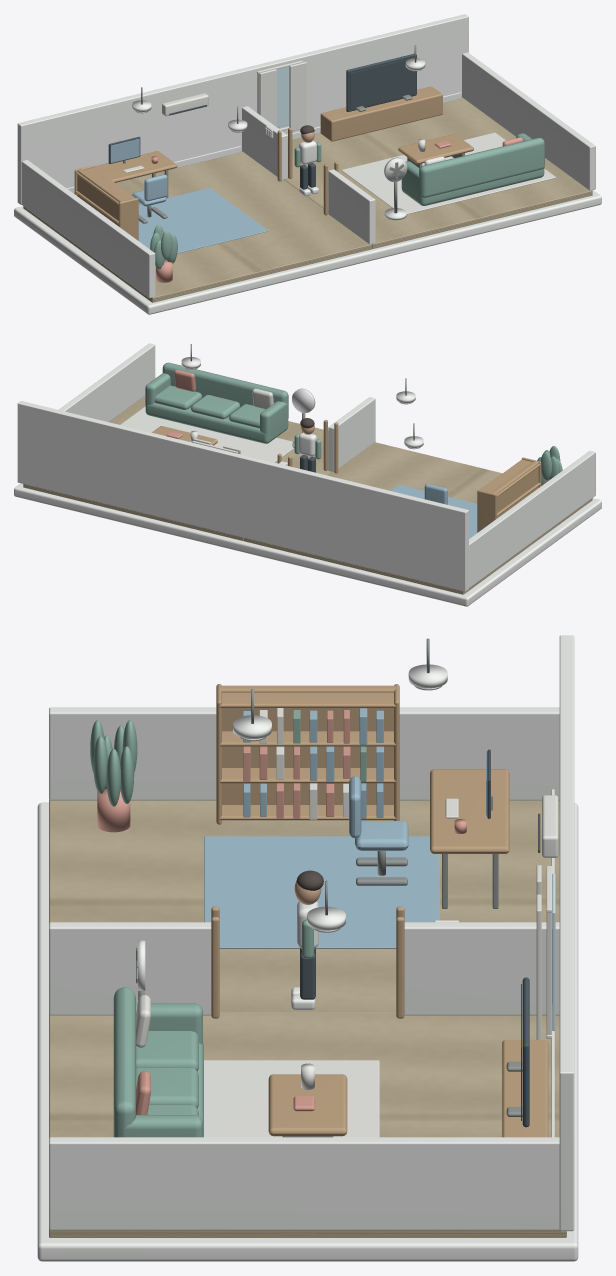
Rendered from house.glb.
3 views of the same model, one above another, from view 1: azimuth 30°, elevation 25°; view 2: azimuth 150°, elevation 25°; view 3: azimuth 270°, elevation 25° (orthographic). The views are drawn at different scales.
Parts seen in each view (by area): view 1: wall_back, floor_study, floor_living, foundation, wall_left, wall_right, study_rug, sofa_back, tv_bench, living_rug, wall_partition_front, living_tv_screen (+16 smaller); view 2: wall_back, foundation, floor_study, wall_left, wall_right, wall_partition_front, living_rug, floor_living, sofa_back, sofa_base, bookcase_back, sofa_cushion.001 (+13 smaller); view 3: wall_right, floor_study, floor_living, wall_left, study_rug, foundation, wall_partition_front, wall_partition_back, wall_back, living_rug, bookcase_back, desk_top (+20 smaller).
Part boxes in pixels (x1,y1,x2,y2): wall_back: (17, 14, 468, 204); floor_study: (23, 151, 372, 302); floor_living: (284, 97, 592, 248); foundation: (14, 190, 601, 314); wall_left: (21, 160, 155, 298); wall_right: (462, 52, 595, 190); study_rug: (138, 187, 268, 253); sofa_back: (419, 137, 544, 197); tv_bench: (320, 86, 442, 141); living_rug: (341, 132, 556, 214); wall_partition_front: (328, 169, 375, 244); living_tv_screen: (350, 57, 415, 109); wall_back: (17, 401, 468, 591); foundation: (14, 483, 601, 606); floor_study: (243, 442, 592, 594); wall_left: (469, 450, 595, 587); wall_right: (58, 343, 155, 421); wall_partition_front: (328, 397, 375, 471); living_rug: (120, 406, 293, 462); floor_living: (23, 396, 331, 540); sofa_back: (162, 362, 288, 417); sofa_base: (145, 403, 288, 443); bookcase_back: (491, 460, 538, 518); sofa_cushion.001: (191, 395, 239, 419); wall_right: (49, 1137, 559, 1230); floor_study: (49, 800, 559, 1013); floor_living: (49, 1013, 566, 1237); wall_left: (49, 707, 559, 800); study_rug: (204, 836, 439, 948); foundation: (37, 802, 578, 1261); wall_partition_front: (49, 922, 211, 1015); wall_partition_back: (404, 922, 559, 1015); wall_back: (559, 635, 574, 1231); living_rug: (204, 1060, 379, 1137); bookcase_back: (220, 685, 395, 804); desk_top: (430, 769, 509, 853).
Size of the model in its own units: 11.35 by 3.22 by 5.85.
Materials: 12 (1 with a texture image).
